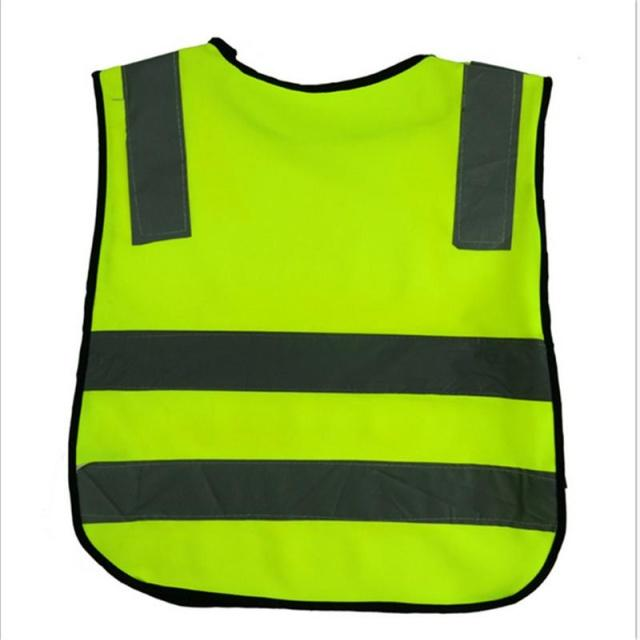vest: (69, 28, 567, 640)
